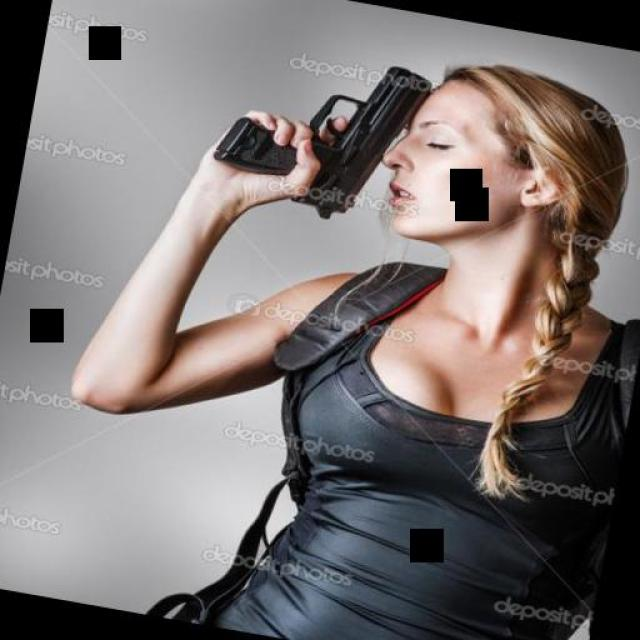gun: (182, 32, 436, 230)
